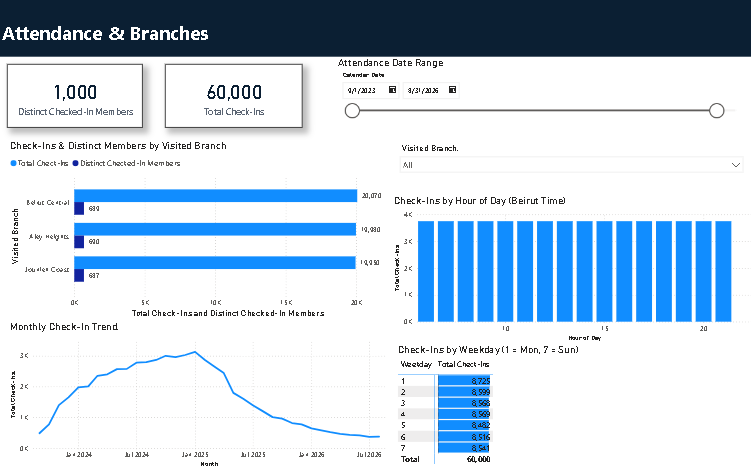

This screenshot's page, from the dashboard's own definition file:
{"tool":"powerbi","page":{"name":"Attendance & Branches","canvas":[1280,800],"ordinal":3},"visuals":[{"type":"shape","box":[0,0,1280.5,99.5],"z":0},{"type":"textbox","box":[0,30.6,1258.1,69.4],"z":1000},{"type":"card","fields":{"Values":["_Measures.Total Check-Ins"]},"box":[281.7,111.7,233.3,108.3],"z":2000},{"type":"card","fields":{"Values":["_Measures.Distinct Checked-In Members"]},"box":[13.3,111.7,230,108.3],"z":3000},{"type":"clusteredBarChart","title":"\tCheck-Ins & Distinct Members by Visited Branch","fields":{"Category":["Fact_Check_In.visited_branch_name"],"Y":["_Measures.Total Check-Ins","_Measures.Distinct Checked-In Members"]},"box":[13.3,240,650,306.7],"z":4000},{"type":"clusteredColumnChart","title":"Check-Ins by Hour of Day (Beirut Time)","fields":{"Category":["Fact_Check_In.check_in_hour_beirut"],"Y":["_Measures.Total Check-Ins"]},"box":[663.6,334.5,616.4,252.7],"z":5000},{"type":"lineChart","title":"Monthly Check-In Trend.","fields":{"Category":["Dim_Date.month_start_date"],"Y":["_Measures.Total Check-Ins"]},"box":[13.3,546.7,656.7,253.3],"z":6000},{"type":"slicer","title":"Attendance Date Range","fields":{"Values":["Dim_Date.calendar_date"]},"box":[569.1,100,701.8,140],"z":7000},{"type":"slicer","fields":{"Values":["Fact_Check_In.visited_branch_name"]},"box":[670,240,601.7,76.7],"z":8000},{"type":"pivotTable","title":"\tCheck-Ins by Weekday (1 = Mon, 7 = Sun)","fields":{"Rows":["Fact_Check_In.weekday_number_monday_1"],"Values":["_Measures.Total Check-Ins"]},"box":[670.9,587.3,609.1,212.7],"z":9000}]}

Visuals, with their boxes in screenshot pixels (x1, y1, x2, y2), scaled from the page's 1280x800 canvas onto the 751x466 screenshot:
shape: [0,0,750,58]
textbox: [0,18,738,58]
card - _Measures.Total Check-Ins: [165,65,302,128]
card - _Measures.Distinct Checked-In Members: [8,65,143,128]
"	Check-Ins & Distinct Members by Visited Branch" clusteredBarChart: [8,140,389,318]
"Check-Ins by Hour of Day (Beirut Time)" clusteredColumnChart: [389,195,750,342]
"Monthly Check-In Trend." lineChart: [8,318,393,465]
"Attendance Date Range" slicer: [334,58,746,140]
slicer - Fact_Check_In.visited_branch_name: [393,140,746,184]
"	Check-Ins by Weekday (1 = Mon, 7 = Sun)" pivotTable: [394,342,750,465]
